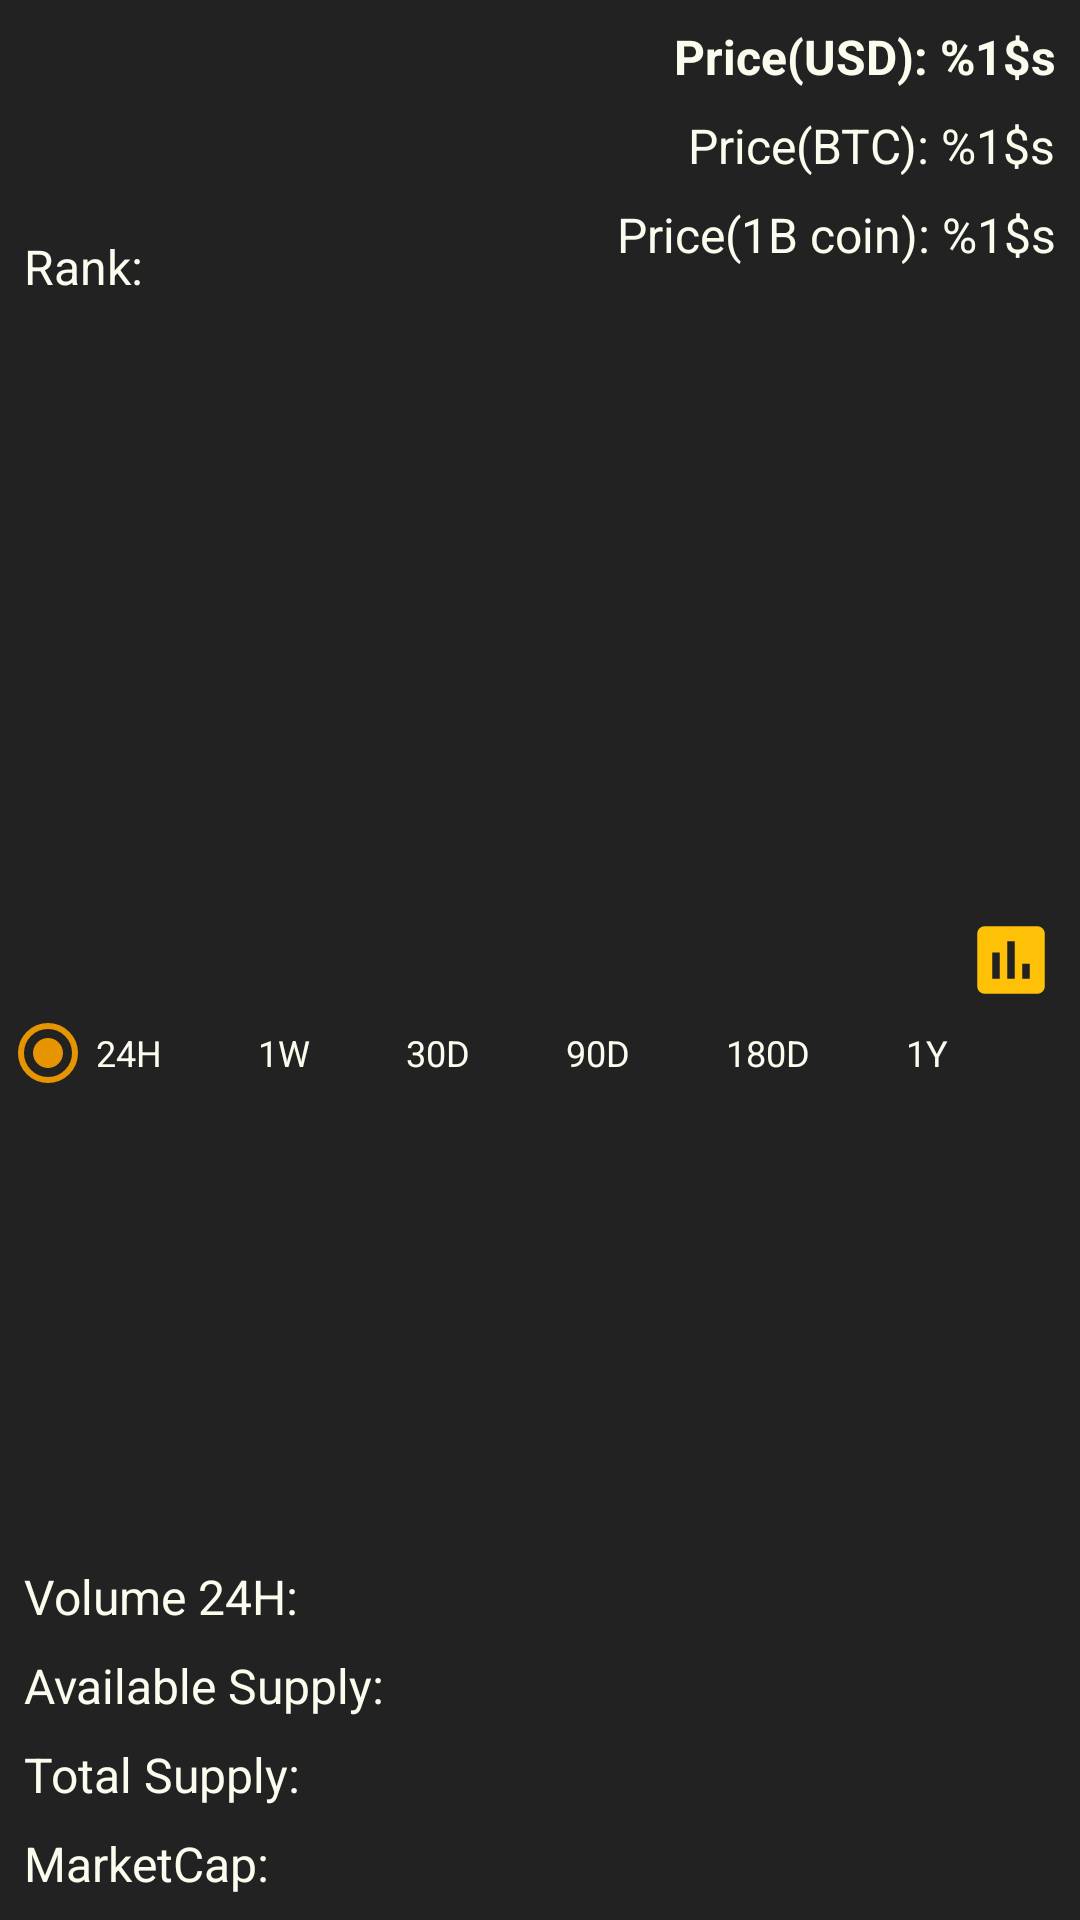

Icons on this 1080px x 1920px Android screen, each with the point to tap as (x=x, y=y):
Chart type change button: (x=1011, y=960)
